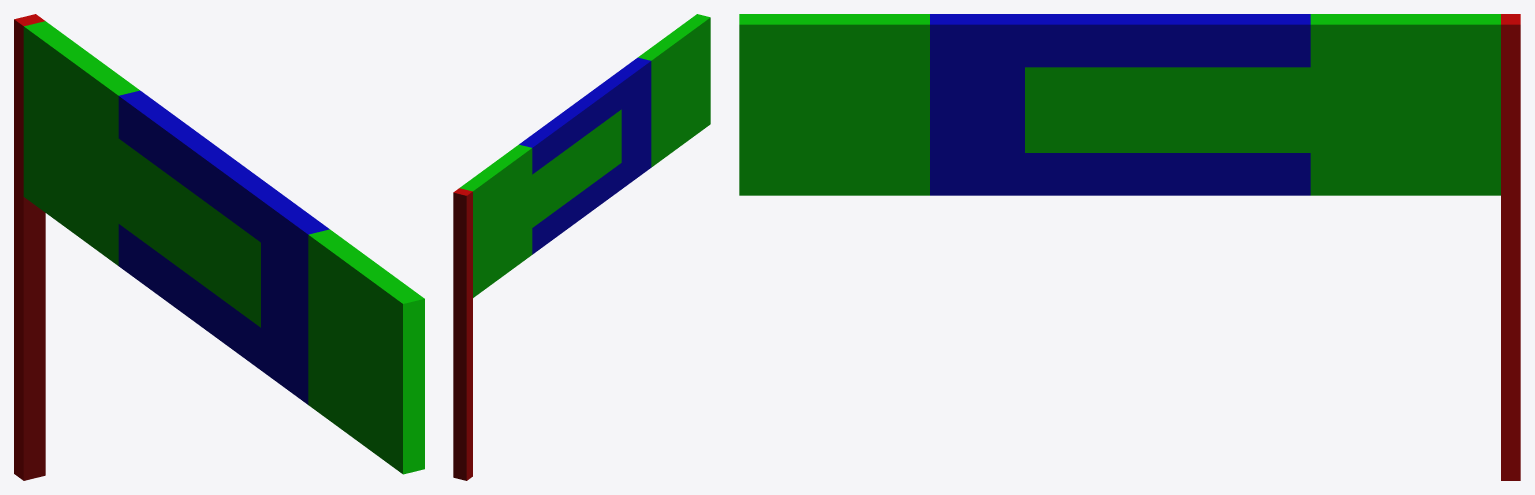
Rendered from checkpoint_flag_backwards.obj.
The picture shows the model from 3 angles, left to right: view 1: azimuth 30°, elevation 25°; view 2: azimuth 150°, elevation 25°; view 3: azimuth 270°, elevation 25°; orthographic projection. The views are drawn at different scales.
Visible parts, largest first — view 1: Cube.001; view 2: Cube.001; view 3: Cube.001.
Part boxes in pixels (<box>): Cube.001: <box>14,14,424,480</box>; Cube.001: <box>453,14,710,480</box>; Cube.001: <box>739,14,1520,480</box>.
Bounding box in the file's own units: 4 × 80 × 124.
